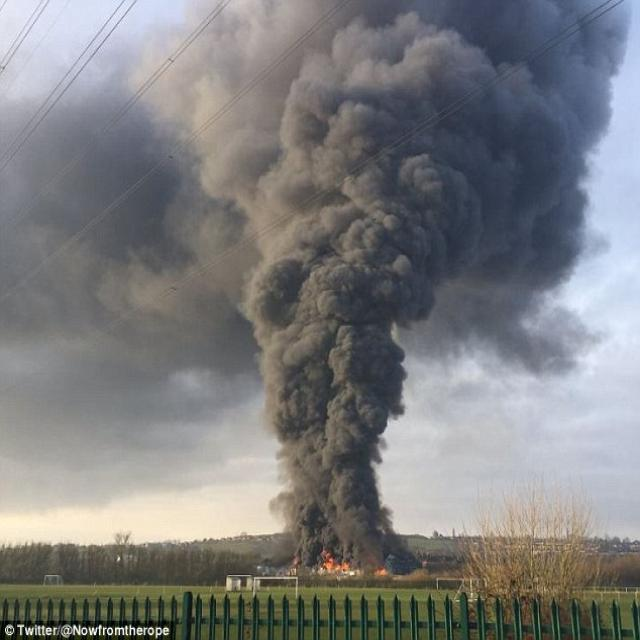Fire: (298, 552, 394, 578)
Smoke: (123, 0, 626, 592)
